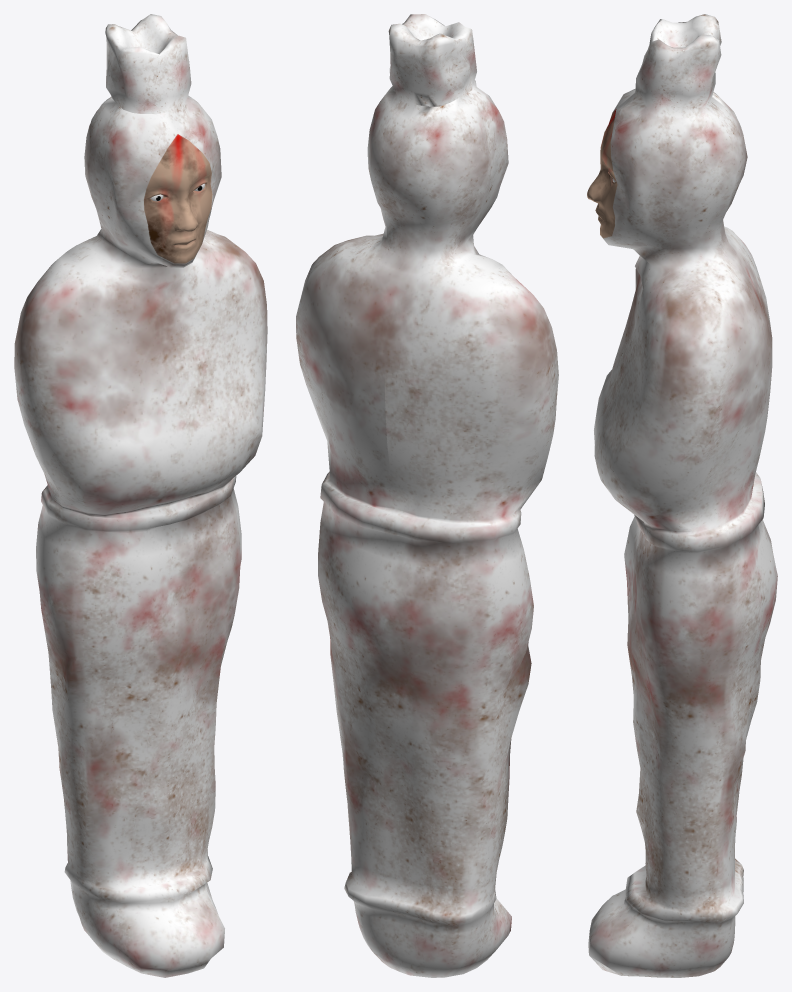
The picture shows the model from 3 angles, left to right: view 1: azimuth 30°, elevation 25°; view 2: azimuth 150°, elevation 25°; view 3: azimuth 270°, elevation 25°; orthographic projection. The views are drawn at different scales.
Parts seen in each view (by area): view 1: Pocong; view 2: Pocong; view 3: Pocong.
Boxes of the visible parts, x1=… form: Pocong: x1=14, y1=14, x2=267, y2=977; Pocong: x1=296, y1=14, x2=558, y2=977; Pocong: x1=587, y1=14, x2=777, y2=977.
Bounding box in the file's own units: 0.5043 × 1.84 × 0.3398.
1 material, 1 textured.
